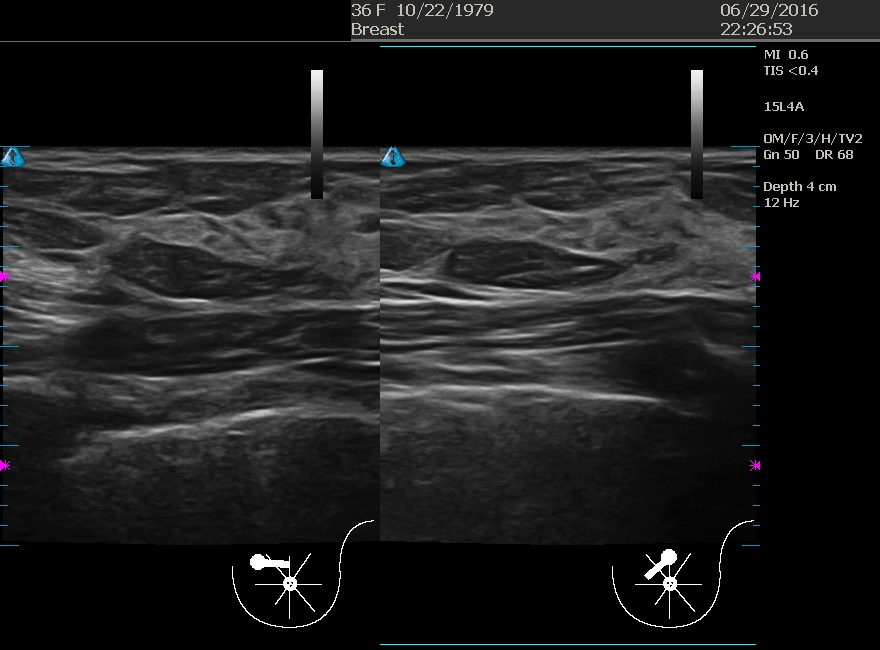Benign: (104, 205, 304, 405), (433, 183, 633, 383)
